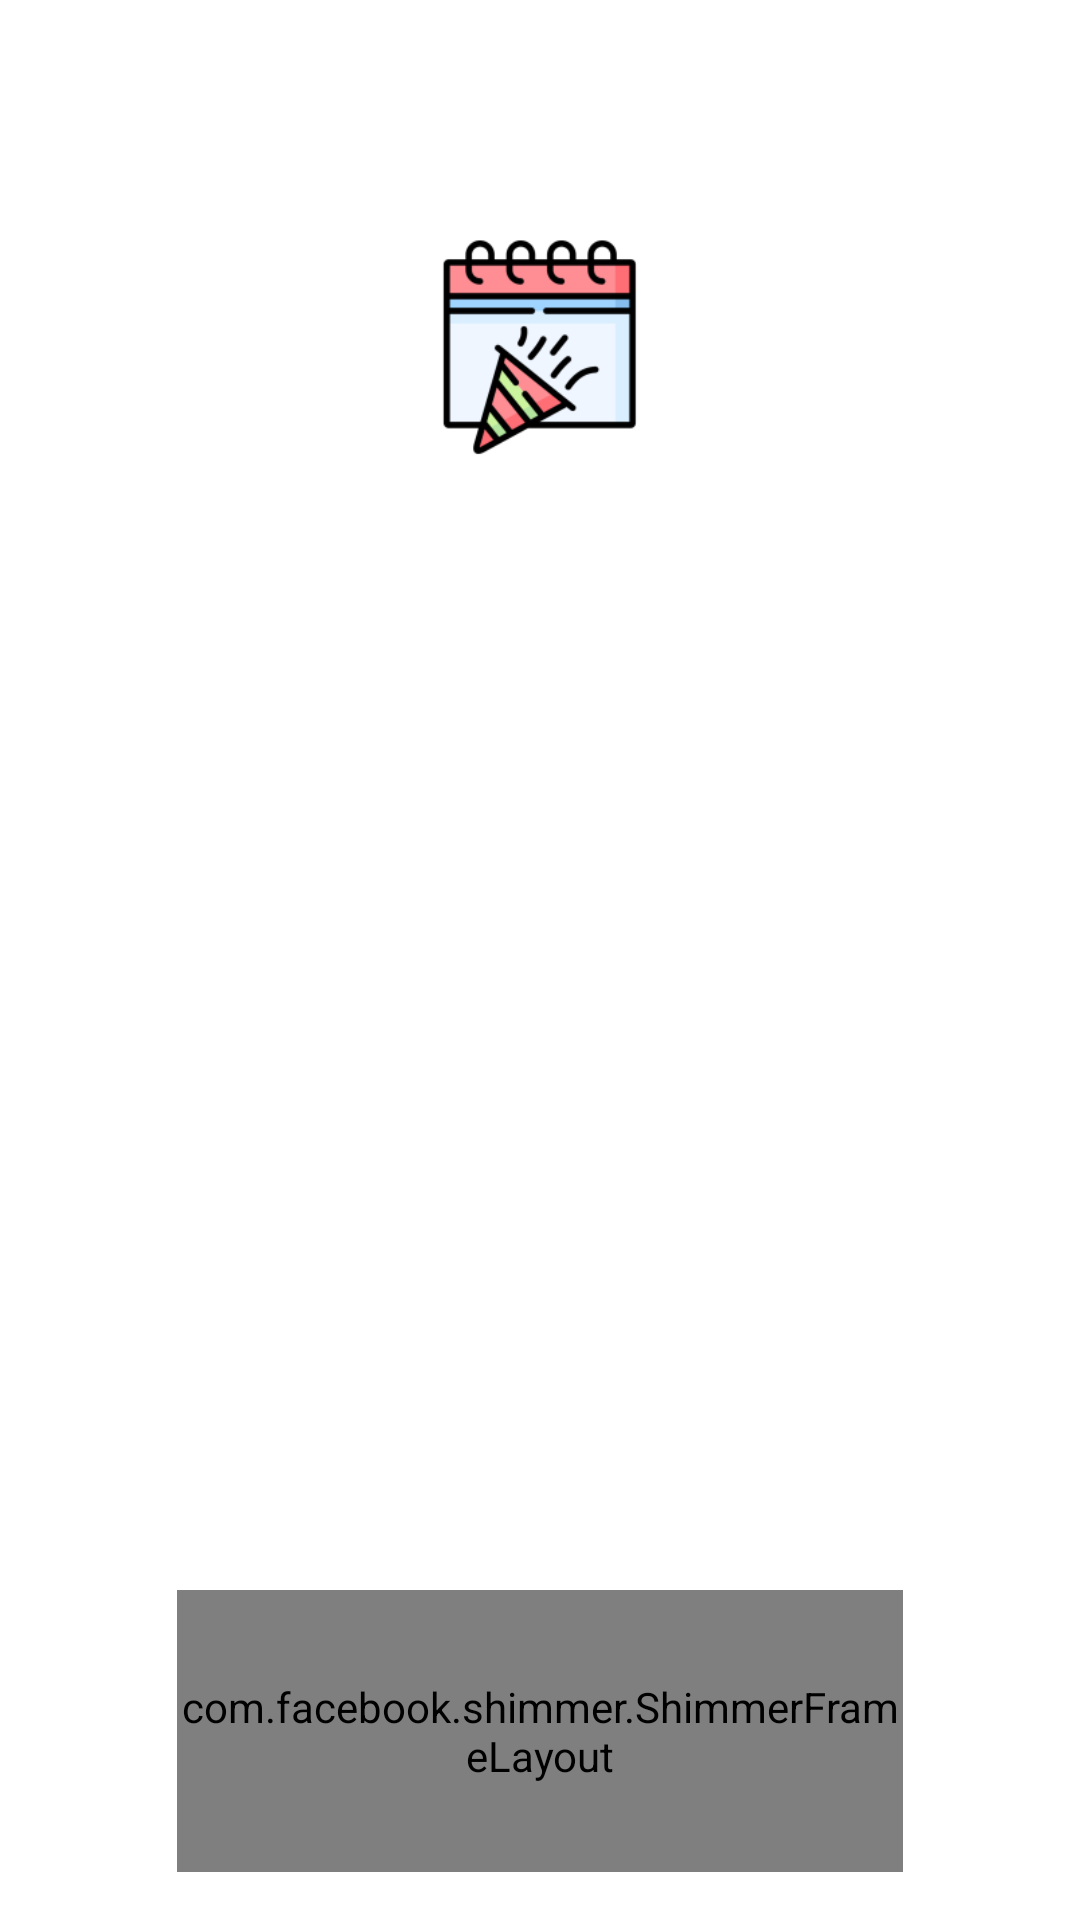

Screen size 1080px x 1920px. Icon name, then its center in pixels as (x=x, y=y):
event: (x=539, y=347)
